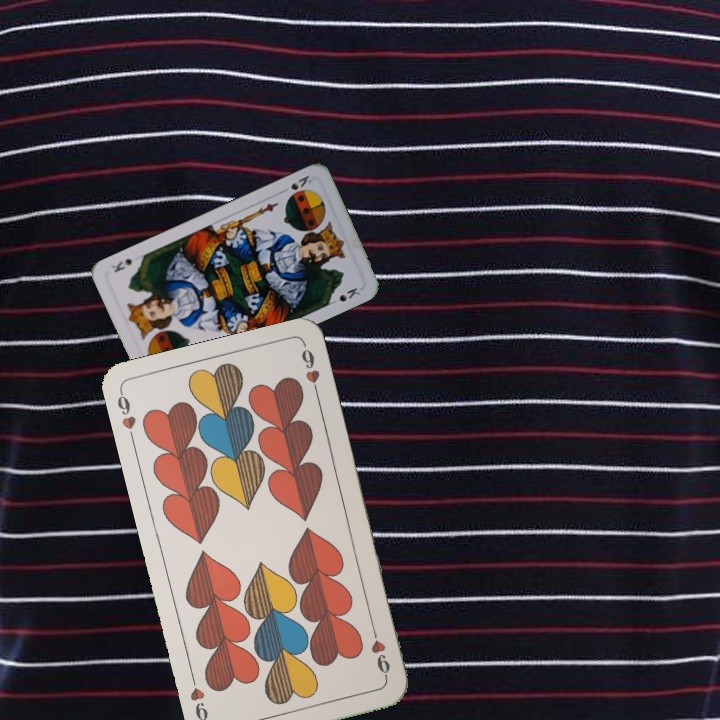H9: (366, 623, 393, 682), (113, 387, 139, 446)
SK: (286, 171, 314, 193)
